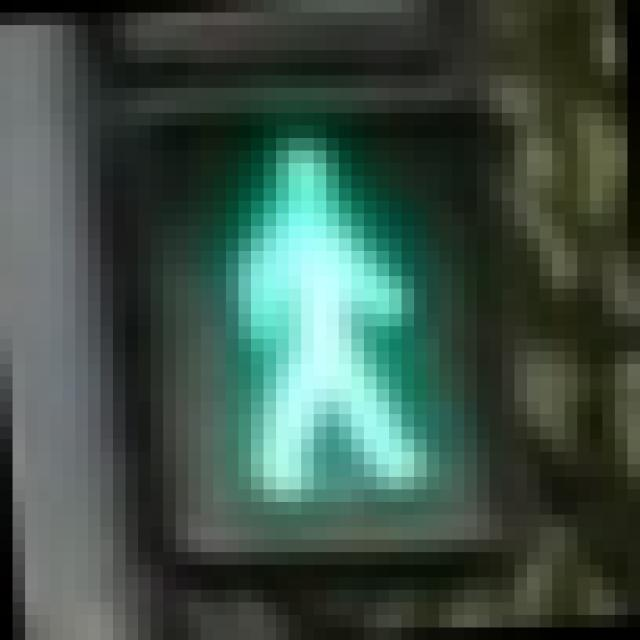geen-crossing: (125, 75, 477, 527)
